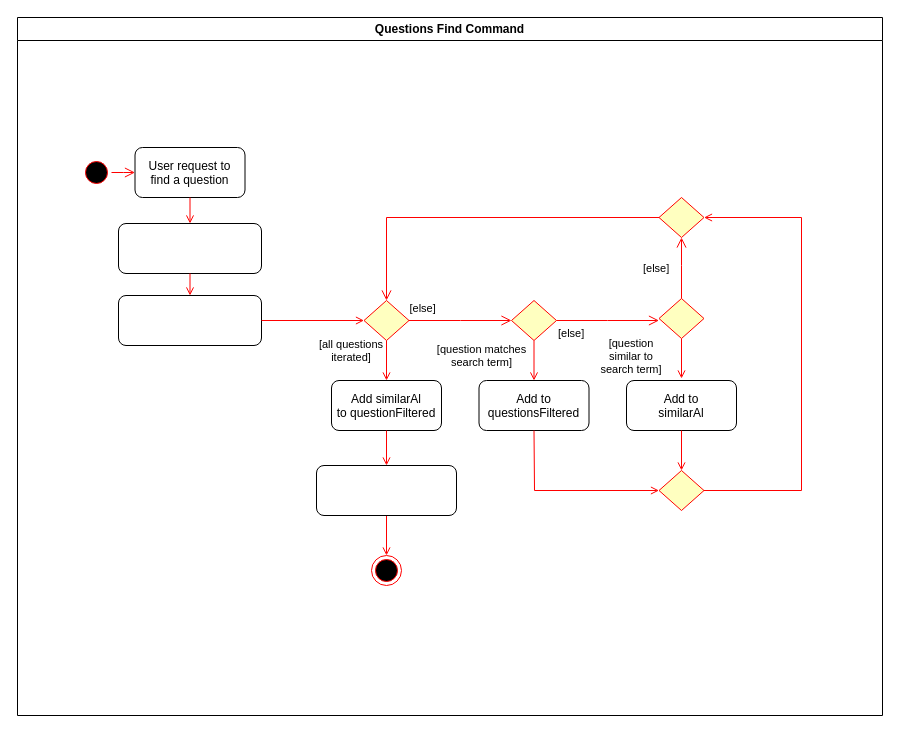
The diagram is 900 pixels wide and 733 high, and some of its shapes have lost their labels. The shapes that lost their labels are listed below. From the top down, each one's centre as x and y in pixels, then its label:
point 190,248: Existing searched questions are cleared
point 190,320: Create a new list to store similar questions with name similarAl
point 386,490: Sort search results according to ascending question length
